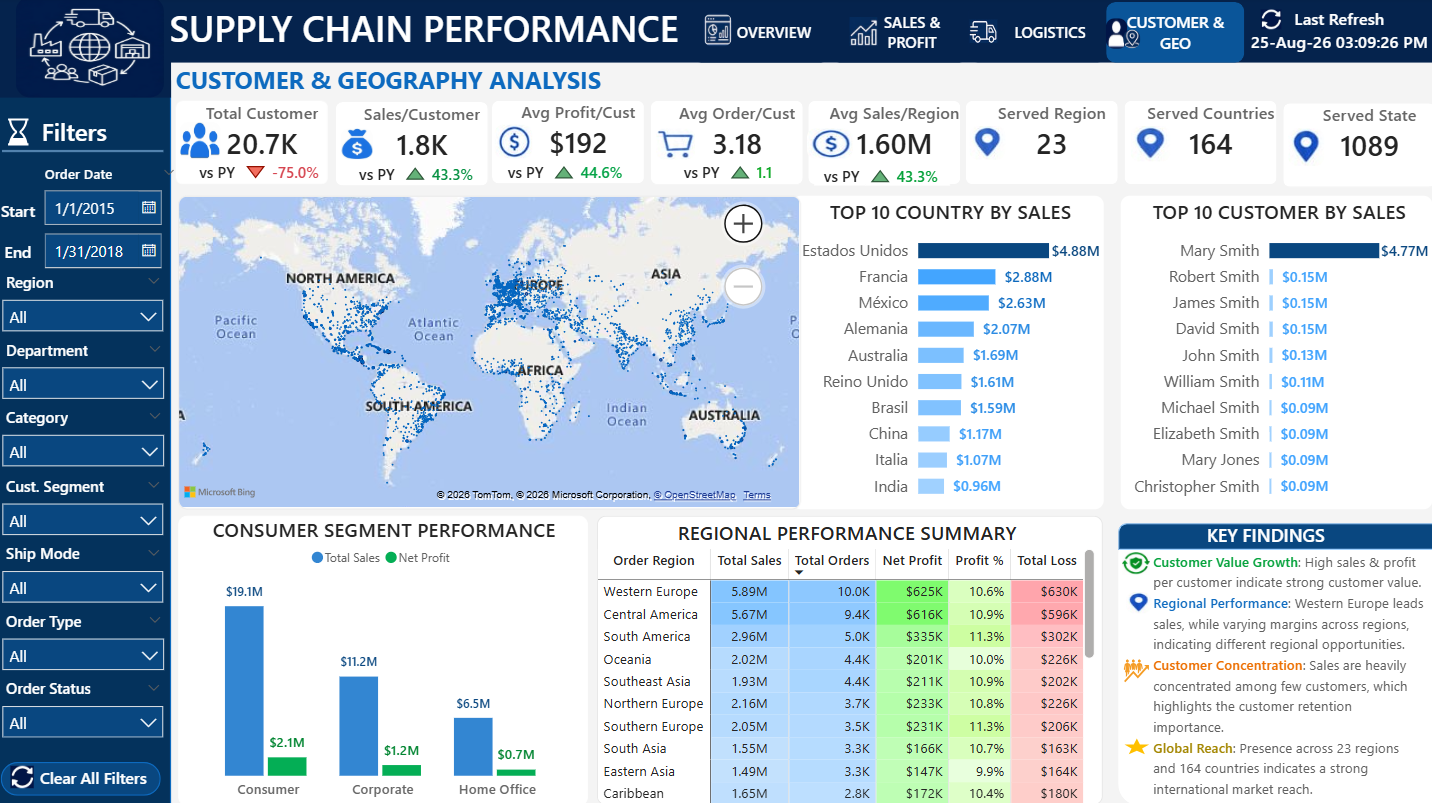

Layout of this report page (visuals, bound fields, positions):
{"tool":"powerbi","page":{"name":"CUSTOMER   & GEO","canvas":[1280,720],"ordinal":3},"visuals":[{"type":"image","box":[16.8,0,131.8,89.9],"z":0,"group":"g11"},{"type":"shape","box":[146.2,0,1133.8,58.7],"z":0},{"type":"image","box":[987.4,19,18.8,27.1],"z":0,"group":"g25"},{"type":"shape","box":[581.8,91.8,135.6,74.4],"z":0,"group":"g19"},{"type":"shape","box":[721.9,91.9,135.6,74.4],"z":0,"group":"g17"},{"type":"shape","box":[158.9,92.2,135.6,74.4],"z":0,"group":"g14"},{"type":"shape","box":[440.4,92.2,135.6,73.7],"z":0,"group":"g16"},{"type":"shape","box":[862.7,92.2,135.6,74.4],"z":0,"group":"g22"},{"type":"shape","box":[1003.5,92.2,135.6,74.4],"z":0,"group":"g23"},{"type":"shape","box":[301.1,92.4,135.6,74.4],"z":0,"group":"g15"},{"type":"shape","box":[1145.5,93.6,135.6,74.4],"z":0,"group":"g27"},{"type":"textbox","box":[3.8,104.5,128.8,32.5],"z":0,"group":"g5"},{"type":"group","id":"g1","title":"Group 6","box":[0,149.5,166.3,563.8],"z":0,"group":"g10"},{"type":"group","id":"g2","title":"Group 4","box":[0,149.5,166.3,511.2],"z":0,"group":"g1"},{"type":"group","id":"g3","title":"Group 1","box":[34.7,149.5,131.2,97.5],"z":0,"group":"g6"},{"type":"slicer","fields":{"Values":["Dim_Date.Order_Date"]},"box":[34.7,149.5,131.2,97.5],"z":0,"group":"g3"},{"type":"group","id":"g4","title":"Group 2","box":[0,245.7,153.8,415],"z":0,"group":"g2"},{"type":"pivotTable","title":"REGIONAL PERFORMANCE SUMMARY","fields":{"Values":["_Measures.Total Sales","_Measures.Total Orders","_Measures.Net Profit","_Measures.Profit Margin %","_Measures.Total Loss"],"Rows":["Dim_Location.Order_Region"]},"box":[534,462,450,257.8],"z":0,"group":"g18"},{"type":"shape","box":[999,468.9,296.2,23.8],"z":0,"group":"g29"},{"type":"shape","box":[999.5,476.9,302.5,243.8],"z":0,"group":"g24"},{"type":"slicer","fields":{"Values":["Dim_Ship.Ship_Mode"]},"box":[0,487.1,152.6,52.9],"z":0,"group":"g4"},{"type":"image","box":[1003.2,495,25,20],"z":0,"group":"g8"},{"type":"image","box":[1002.3,585.6,25.4,28],"z":0,"group":"g26"},{"type":"image","box":[1003.4,659,26.7,16.7],"z":0,"group":"g9"},{"type":"shape","box":[3.8,681.7,142.5,30],"z":0,"group":"g7"},{"type":"shape","box":[0,75,155,645],"z":1000},{"type":"group","id":"g5","title":"Group 7","box":[3,104.5,144.5,45],"z":1000,"group":"g10"},{"type":"shape","box":[3.8,124.5,143.8,25],"z":1000,"group":"g5"},{"type":"group","id":"g6","title":"Group 3","box":[1.3,149.5,165,106.2],"z":1000,"group":"g2"},{"type":"textbox","box":[1.3,180.3,35.1,75],"z":1000,"group":"g6"},{"type":"textbox","box":[1078,467.8,113.8,23.3],"z":1000,"group":"g29"},{"type":"textbox","box":[1031.1,492.2,242.2,227.4],"z":1000,"group":"g24"},{"type":"slicer","fields":{"Values":["Fact_Order.Order_Type"]},"box":[0,547.5,153.8,52.9],"z":1000,"group":"g4"},{"type":"group","id":"g7","title":"Group 5","box":[3.8,679.5,145.3,33.8],"z":1000,"group":"g1"},{"type":"textbox","box":[30,686.7,111.2,26.2],"z":1000,"group":"g7"},{"type":"image","box":[3,105.5,31.2,29],"z":2000,"group":"g5"},{"type":"slicer","fields":{"Values":["Dim_Customer.Customer_Segment"]},"box":[0,426.8,152.6,52.9],"z":2000,"group":"g4"},{"type":"lineClusteredColumnComboChart","title":"CONSUMER SEGMENT PERFORMANCE","fields":{"Y":["_Measures.Total Sales","_Measures.Net Profit"],"Category":["Dim_Customer.Customer_Segment"]},"box":[161.1,462,365,258],"z":2000},{"type":"group","id":"g8","title":"Group 14","box":[1003.2,495,25,20],"z":2000,"group":"g24"},{"type":"image","box":[11,685.4,22.5,20],"z":2000,"group":"g7"},{"type":"clusteredBarChart","title":"TOP 10 CUSTOMER BY SALES","fields":{"Y":["_Measures.Total Sales"],"Category":["Dim_Customer.Customer_Name"]},"box":[1001,176.7,277.8,278.9],"z":3000},{"type":"slicer","fields":{"Values":["Fact_Order.Order_Status"]},"box":[0,607.8,152.6,52.9],"z":3000,"group":"g4"},{"type":"group","id":"g9","title":"Group 14","box":[1003.4,659,26.7,16.7],"z":3000,"group":"g24"},{"type":"actionButton","box":[4.1,679.5,145,33.8],"z":3000,"group":"g7"},{"type":"shape","box":[0,0,155,89.9],"z":4000},{"type":"image","box":[1125.4,11.5,18.8,17.3],"z":4000,"group":"g21"},{"type":"slicer","fields":{"Values":["Dim_Department.Department_Name"]},"box":[0,306.1,153.8,52.9],"z":4000,"group":"g4"},{"type":"image","box":[1006.2,530.4,23.3,18.9],"z":4000,"group":"g24"},{"type":"group","id":"g10","title":"Group 8","box":[0,104.5,166.3,608.8],"z":5000},{"type":"slicer","fields":{"Values":["Dim_Location.Order_Region"]},"box":[0,245.7,152.6,52.9],"z":5000,"group":"g4"},{"type":"textbox","box":[153.4,6,465,43.1],"z":6000},{"type":"slicer","fields":{"Values":["Dim_Product.Category_Name"]},"box":[0,366.4,153.8,52.9],"z":6000,"group":"g4"},{"type":"cardVisual","fields":{"Data":["Min(Last Refresh.Last Refresh)"]},"box":[1112.4,7.2,167.4,44.7],"z":6500,"group":"g21"},{"type":"textbox","box":[158.8,58.8,392.5,31.2],"z":7000},{"type":"group","id":"g11","title":"Group 9","box":[16.8,0,131.8,89.9],"z":8000},{"type":"group","id":"g12","title":"Group 13","box":[618.8,4.7,493.5,54.1],"z":9000},{"type":"group","id":"g13","title":"Group 15","box":[158.9,91.8,1122.2,76.2],"z":10000},{"type":"group","id":"g14","title":"Group 18","box":[158.9,92.2,136.5,74.5],"z":10000,"group":"g13"},{"type":"group","id":"g15","title":"Group 18","box":[301.1,92.4,135.6,74.4],"z":11000,"group":"g13"},{"type":"clusteredBarChart","title":"TOP 10 COUNTRY BY SALES","fields":{"Y":["_Measures.Total Sales"],"Category":["Dim_Location.Order_Country"]},"box":[708,176.7,277.8,278.9],"z":11000},{"type":"group","id":"g16","title":"Group 18","box":[440.4,92.2,135.6,73.8],"z":12000,"group":"g13"},{"type":"map","title":"Sales by Region","fields":{"Size":["_Measures.Total Sales"],"Category":["Dim_Location.Order_City","Dim_Location.Order_Country"]},"box":[161.4,177,554,279.4],"z":12000},{"type":"group","id":"g17","title":"Group 18","box":[721,91.9,136.4,75.1],"z":13000,"group":"g13"},{"type":"group","id":"g18","title":"Group 19","box":[534,462,450,257.8],"z":13000},{"type":"image","box":[866,20.5,25,20.6],"z":14000,"group":"g41"},{"type":"group","id":"g19","title":"Group 18","box":[581.8,91.8,135.6,74.4],"z":14000,"group":"g13"},{"type":"tableEx","fields":{"Values":["Table.Column1","_Measures.YoY Avg Profit Per Cust %"]},"box":[445,124,130,42],"z":14000,"group":"g16"},{"type":"tableEx","fields":{"Values":["Table.Column1","_Measures.YoY Sales per cust %"]},"box":[312.8,124.2,122.5,42],"z":14000,"group":"g15"},{"type":"tableEx","fields":{"Values":["Table.Column1","_Measures.YoY Customers %"]},"box":[165.1,124.5,130.3,42.2],"z":14000,"group":"g14"},{"type":"tableEx","fields":{"Values":["Table.Column1","_Measures.YoY Order count per cust %"]},"box":[602,124.5,108.8,41.2],"z":14000,"group":"g19"},{"type":"tableEx","fields":{"Values":["Table.Column1","_Measures.YoY Sales per Region %"]},"box":[726.1,127,129.4,40],"z":14000,"group":"g17"},{"type":"group","id":"g20","title":"Group 17","box":[999,467.8,303,252.8],"z":14000},{"type":"image","box":[758.9,18.4,24.8,25.9],"z":14500,"group":"g39"},{"type":"group","id":"g21","title":"Group 20","box":[1112.4,7.2,167.4,44.7],"z":15000},{"type":"group","id":"g22","title":"Group 18","box":[862.7,92.2,135.6,74.4],"z":15000,"group":"g13"},{"type":"image","box":[161.9,111.2,36.7,33.9],"z":15000,"group":"g31"},{"type":"image","box":[443,113,33.9,30.6],"z":15000,"group":"g32"},{"type":"image","box":[865.6,114.1,31.7,30],"z":15000,"group":"g33"},{"type":"image","box":[1009.4,114.9,35.6,32.2],"z":15000,"group":"g34"},{"type":"image","box":[306.1,115.4,28.9,28.3],"z":15000,"group":"g35"},{"type":"image","box":[721,115.9,41,27],"z":15000,"group":"g36"},{"type":"image","box":[586,116,35,28],"z":15000,"group":"g37"},{"type":"image","box":[1150.4,116.1,31.7,33.9],"z":15000,"group":"g38"},{"type":"group","id":"g23","title":"Group 18","box":[1003.5,92.2,135.6,74.4],"z":16000,"group":"g13"},{"type":"group","id":"g24","title":"Group 24","box":[999.5,476.9,302.5,243.8],"z":16000,"group":"g20"},{"type":"group","id":"g25","title":"Group 9","box":[987.4,19,18.8,27.1],"z":16500,"group":"g28"},{"type":"group","id":"g26","title":"Group 14","box":[1002.3,585.6,25.6,27.8],"z":16500,"group":"g30"},{"type":"image","box":[1002.7,29,15.3,17.2],"z":17000,"group":"g28"},{"type":"group","id":"g27","title":"Group 18","box":[1145.5,93.6,135.6,74.4],"z":17000,"group":"g13"},{"type":"group","id":"g28","title":"Group 10","box":[987.4,19,30.6,27.2],"z":17001,"group":"g40"},{"type":"group","id":"g29","title":"Group 25","box":[999,467.8,296.2,24.9],"z":18001,"group":"g30"},{"type":"group","id":"g30","title":"Group 16","box":[999,467.8,296.2,145.6],"z":18002,"group":"g20"},{"type":"cardVisual","fields":{"Data":["_Measures.Avg Order Count Per Customer"]},"box":[600.7,91.8,116.7,53],"z":19001,"group":"g19"},{"type":"cardVisual","fields":{"Data":["_Measures.Avg Sales Per Region"]},"box":[740.7,91.9,116.7,53],"z":19001,"group":"g17"},{"type":"cardVisual","fields":{"Data":["_Measures.Total Customer"]},"box":[177.8,92.2,116.7,53],"z":19001,"group":"g14"},{"type":"cardVisual","fields":{"Data":["_Measures.Avg Profit Per Cust"]},"box":[459.3,92.2,116.7,52.5],"z":19001,"group":"g16"},{"type":"cardVisual","fields":{"Data":["_Measures.Served Region"]},"box":[881.6,92.2,116.7,53],"z":19001,"group":"g22"},{"type":"cardVisual","fields":{"Data":["_Measures.Served Countries"]},"box":[1022.4,92.2,116.7,53],"z":19001,"group":"g23"},{"type":"cardVisual","fields":{"Data":["_Measures.Sales Per Customer"]},"box":[320,92.4,116.7,53],"z":19001,"group":"g15"},{"type":"cardVisual","fields":{"Data":["_Measures.Served State"]},"box":[1164.4,93.6,116.7,53],"z":19001,"group":"g27"},{"type":"group","id":"g31","title":"Group 14","box":[161.9,111.2,36.7,33.9],"z":19501,"group":"g14"},{"type":"group","id":"g32","title":"Group 14","box":[443,113,33.9,30.6],"z":19501,"group":"g16"},{"type":"group","id":"g33","title":"Group 14","box":[865.6,114.1,31.7,30],"z":19501,"group":"g22"},{"type":"group","id":"g34","title":"Group 14","box":[1009.4,114.9,35.6,32.2],"z":19501,"group":"g23"},{"type":"group","id":"g35","title":"Group 14","box":[306.1,115.4,28.9,28.3],"z":19501,"group":"g15"},{"type":"group","id":"g36","title":"Group 14","box":[721,115.9,41,27],"z":19501,"group":"g17"},{"type":"group","id":"g37","title":"Group 14","box":[586,116,35,28],"z":19501,"group":"g19"},{"type":"group","id":"g38","title":"Group 14","box":[1150.4,116.1,31.7,33.9],"z":19501,"group":"g27"},{"type":"pageNavigator","box":[618.8,4.7,493.5,54.1],"z":23500,"group":"g12"},{"type":"group","id":"g39","title":"Group 14","box":[758.9,18.4,24.1,24.8],"z":24000,"group":"g12"},{"type":"group","id":"g40","title":"Group 11","box":[987.4,19,30.6,27.2],"z":24500,"group":"g12"},{"type":"group","id":"g41","title":"Group 12","box":[866,20.5,25,20.6],"z":25000,"group":"g12"},{"type":"image","box":[628.9,15.2,25.9,29.9],"z":25500,"group":"g12"}]}

Visuals, with their boxes in screenshot pixels (x1, y1, x2, y2), scaled from the page's 1280x720 canvas onto the 1432x803 screenshot:
image: 19:0:166:100
shape: 164:0:1431:65
image: 1105:21:1126:51
shape: 651:102:803:185
shape: 808:102:959:185
shape: 178:103:329:186
shape: 493:103:644:185
shape: 965:103:1117:186
shape: 1123:103:1274:186
shape: 337:103:489:186
shape: 1282:104:1431:187
textbox: 4:117:148:153
"Group 6" group: 0:167:186:796
"Group 4" group: 0:167:186:737
"Group 1" group: 39:167:186:275
slicer - Dim_Date.Order_Date: 39:167:186:275
"Group 2" group: 0:274:172:737
"REGIONAL PERFORMANCE SUMMARY" pivotTable: 597:515:1101:802
shape: 1118:523:1431:549
shape: 1118:532:1431:802
slicer - Dim_Ship.Ship_Mode: 0:543:171:602
image: 1122:552:1150:574
image: 1121:653:1150:684
image: 1123:735:1152:754
shape: 4:760:164:794
shape: 0:84:173:802
"Group 7" group: 3:117:165:167
shape: 4:139:165:167
"Group 3" group: 1:167:186:285
textbox: 1:201:41:285
textbox: 1206:522:1333:548
textbox: 1154:549:1425:802
slicer - Fact_Order.Order_Type: 0:611:172:670
"Group 5" group: 4:758:167:796
textbox: 34:766:158:795
image: 3:118:38:150
slicer - Dim_Customer.Customer_Segment: 0:476:171:535
"CONSUMER SEGMENT PERFORMANCE" lineClusteredColumnComboChart: 180:515:589:802
"Group 14" group: 1122:552:1150:574
image: 12:764:37:787
"TOP 10 CUSTOMER BY SALES" clusteredBarChart: 1120:197:1431:508
slicer - Fact_Order.Order_Status: 0:678:171:737
"Group 14" group: 1123:735:1152:754
actionButton: 5:758:167:796
shape: 0:0:173:100
image: 1259:13:1280:32
slicer - Dim_Department.Department_Name: 0:341:172:400
image: 1126:592:1152:613
"Group 8" group: 0:117:186:796
slicer - Dim_Location.Order_Region: 0:274:171:333
textbox: 172:7:692:55
slicer - Dim_Product.Category_Name: 0:409:172:468
cardVisual - Min(Last Refresh.Last Refresh): 1244:8:1431:58
textbox: 178:66:617:100
"Group 9" group: 19:0:166:100
"Group 13" group: 692:5:1244:66
"Group 15" group: 178:102:1431:187
"Group 18" group: 178:103:330:186
"Group 18" group: 337:103:489:186
"TOP 10 COUNTRY BY SALES" clusteredBarChart: 792:197:1103:508
"Group 18" group: 493:103:644:185
"Sales by Region" map: 181:197:800:509
"Group 18" group: 807:102:959:186
"Group 19" group: 597:515:1101:802
image: 969:23:997:46
"Group 18" group: 651:102:803:185
tableEx - Table.Column1 x _Measures.YoY Avg Profit Per Cust %: 498:138:643:185
tableEx - Table.Column1 x _Measures.YoY Sales per cust %: 350:139:487:185
tableEx - Table.Column1 x _Measures.YoY Customers %: 185:139:330:186
tableEx - Table.Column1 x _Measures.YoY Order count per cust %: 673:139:795:185
tableEx - Table.Column1 x _Measures.YoY Sales per Region %: 812:142:957:186
"Group 17" group: 1118:522:1431:802
image: 849:21:877:49
"Group 20" group: 1244:8:1431:58
"Group 18" group: 965:103:1117:186
image: 181:124:222:162
image: 496:126:534:160
image: 968:127:1004:161
image: 1129:128:1169:164
image: 342:129:375:160
image: 807:129:852:159
image: 656:129:695:161
image: 1287:129:1322:167
"Group 18" group: 1123:103:1274:186
"Group 24" group: 1118:532:1431:802
"Group 9" group: 1105:21:1126:51
"Group 14" group: 1121:653:1150:684
image: 1122:32:1139:52
"Group 18" group: 1282:104:1431:187
"Group 10" group: 1105:21:1139:52
"Group 25" group: 1118:522:1431:549
"Group 16" group: 1118:522:1431:684
cardVisual - _Measures.Avg Order Count Per Customer: 672:102:803:161
cardVisual - _Measures.Avg Sales Per Region: 829:102:959:162
cardVisual - _Measures.Total Customer: 199:103:329:162
cardVisual - _Measures.Avg Profit Per Cust: 514:103:644:161
cardVisual - _Measures.Served Region: 986:103:1117:162
cardVisual - _Measures.Served Countries: 1144:103:1274:162
cardVisual - _Measures.Sales Per Customer: 358:103:489:162
cardVisual - _Measures.Served State: 1303:104:1431:163
"Group 14" group: 181:124:222:162
"Group 14" group: 496:126:534:160
"Group 14" group: 968:127:1004:161
"Group 14" group: 1129:128:1169:164
"Group 14" group: 342:129:375:160
"Group 14" group: 807:129:852:159
"Group 14" group: 656:129:695:161
"Group 14" group: 1287:129:1322:167
pageNavigator: 692:5:1244:66
"Group 14" group: 849:21:876:48
"Group 11" group: 1105:21:1139:52
"Group 12" group: 969:23:997:46
image: 704:17:733:50
